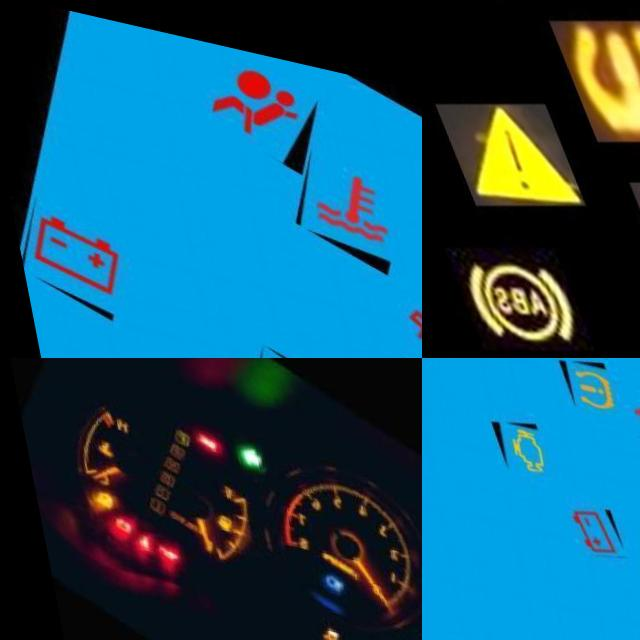Central Warning lamp: (422, 74, 575, 222)
High Engine Coolant Temperature: (88, 430, 111, 453)
Seat Belt: (125, 526, 145, 546)
